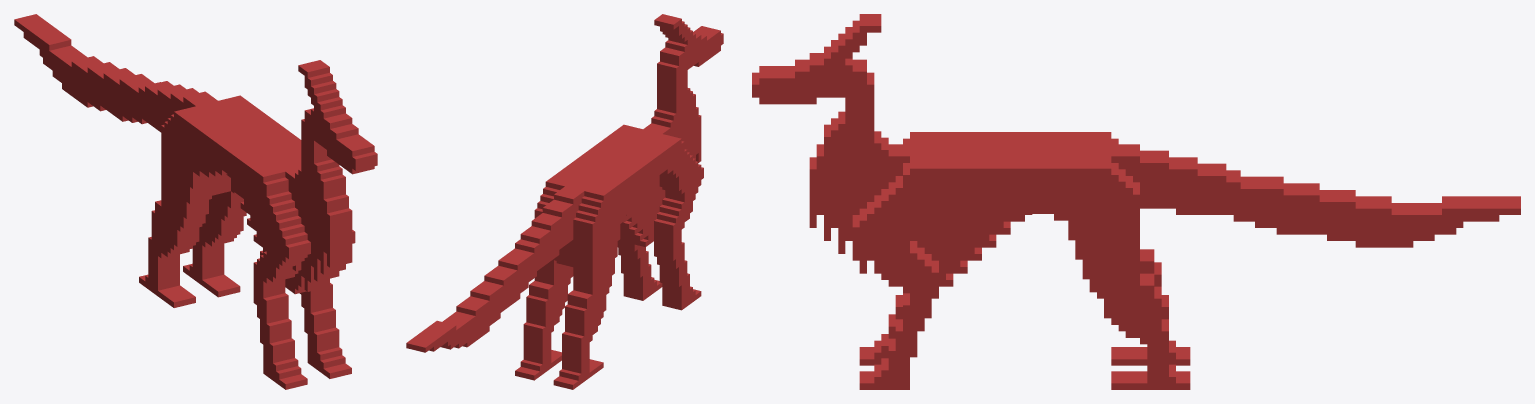
File: Fire_Immortal.bck.gltf
3 renders of one model, left to right at view 1: azimuth 30°, elevation 25°; view 2: azimuth 150°, elevation 25°; view 3: azimuth 270°, elevation 25°, orthographic. The views are drawn at different scales.
Parts seen in each view (by area): view 1: Fire_Immortal-Mesh; view 2: Fire_Immortal-Mesh; view 3: Fire_Immortal-Mesh.
Part boxes in pixels (x1=…): Fire_Immortal-Mesh: x1=14, y1=14, x2=377, y2=389; Fire_Immortal-Mesh: x1=406, y1=14, x2=723, y2=389; Fire_Immortal-Mesh: x1=752, y1=14, x2=1520, y2=389.
Size of the model in its own units: 12 by 54 by 107.
Materials: 1 (1 with a texture image).
